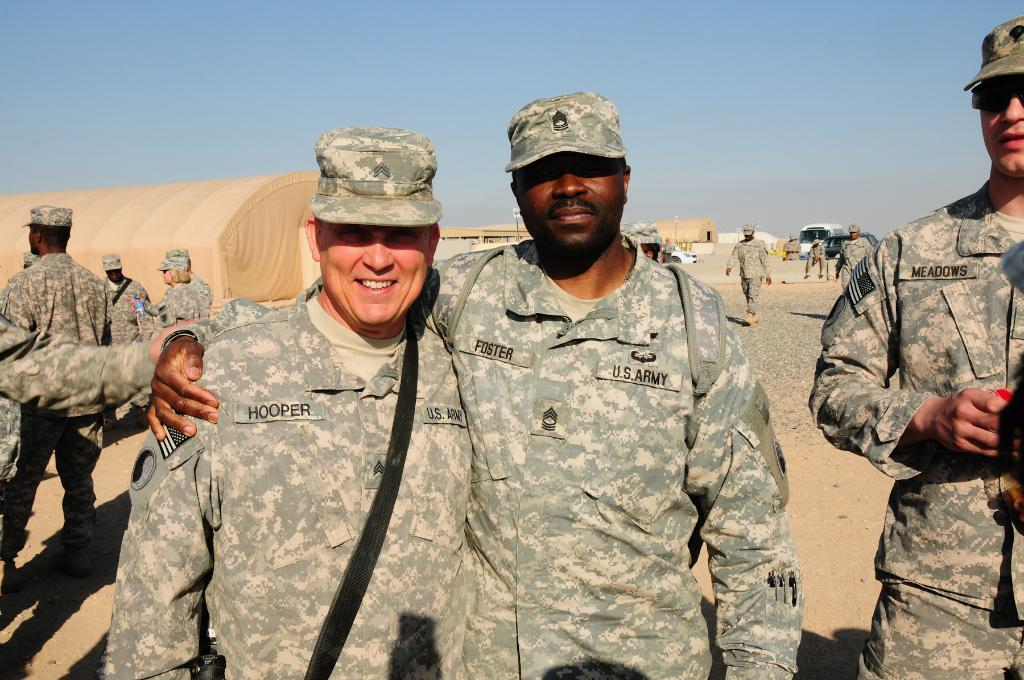Hat: (310, 122, 444, 226), (498, 88, 623, 174), (962, 14, 1024, 88), (16, 203, 72, 229), (620, 216, 660, 244), (157, 256, 190, 274), (102, 251, 121, 270), (165, 247, 187, 260), (742, 222, 754, 235), (22, 251, 35, 262), (846, 224, 860, 232)
